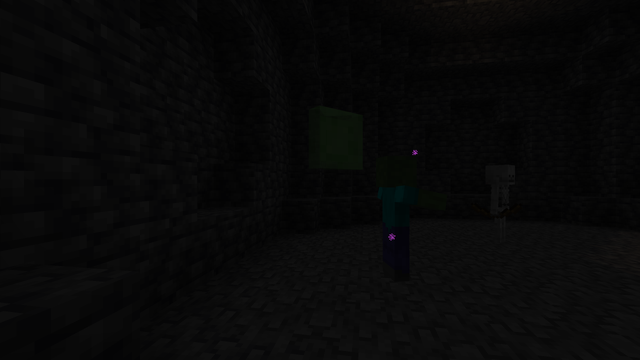slimes: (293, 104, 352, 170)
squelettes: (482, 165, 519, 244)
zombies: (376, 158, 417, 283)
